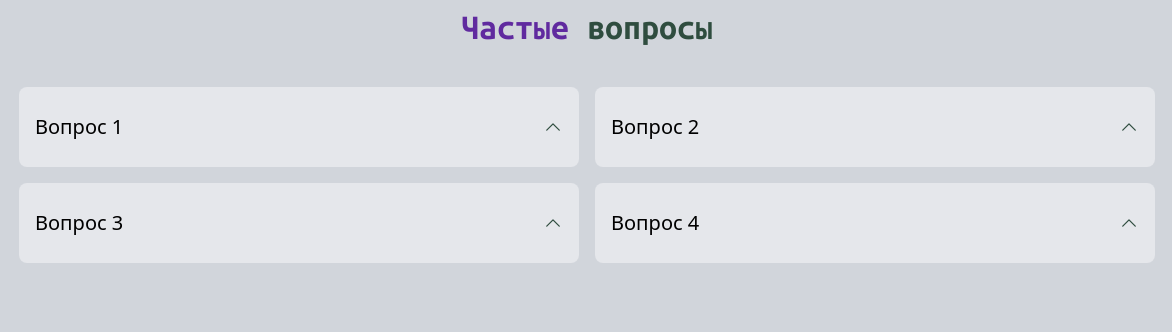
Scenario: Faq Component › collapses and hides answer when button is clicked twice
This screenshot has width=1172, height=332.
# Первый клик - раскрываем
Click the button "Вопрос 1": (79, 126) [19,87,579,167]
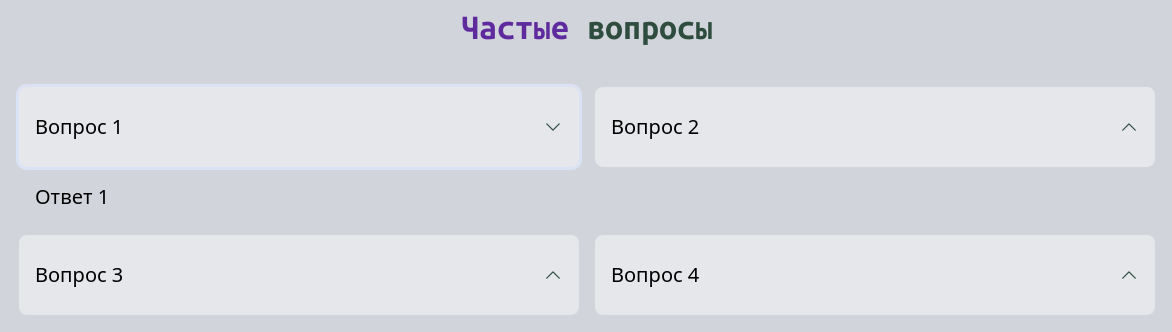
Expected: the text "Ответ 1" is shown, [35,183,109,210]
# Второй клик - скрываем
Click the button "Вопрос 1": (79, 126) [19,87,579,167]
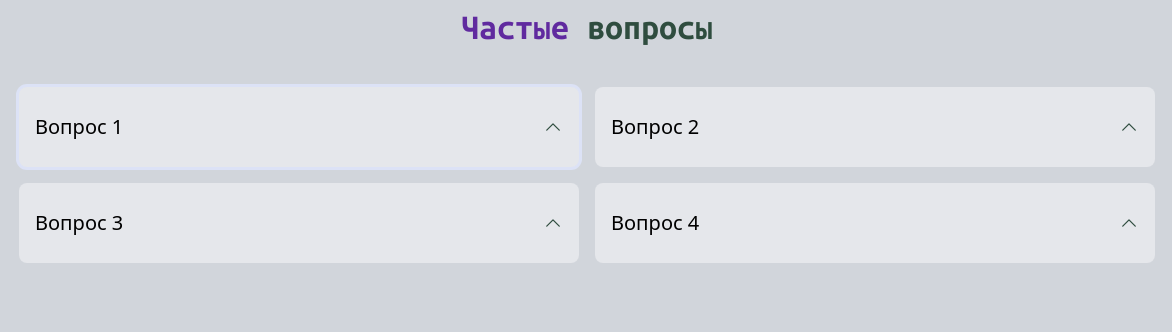
Expected: the text "Ответ 1" is gone
